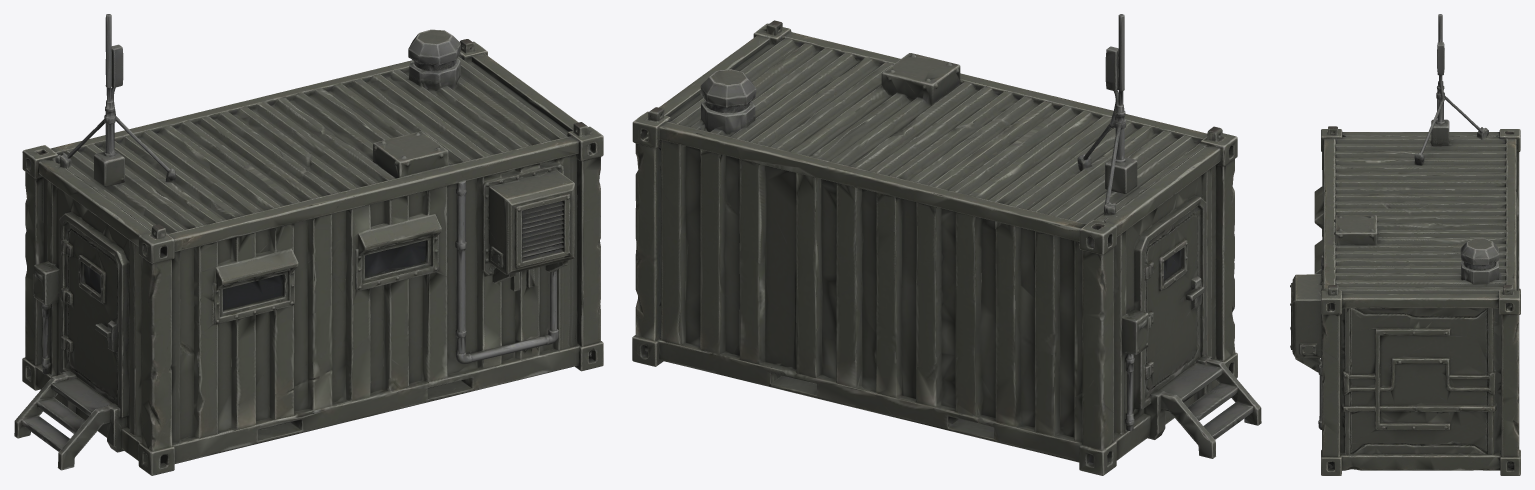
The model's file is mil_shelter.glb.
3 views of the same model, side by side, from view 1: azimuth 30°, elevation 25°; view 2: azimuth 150°, elevation 25°; view 3: azimuth 270°, elevation 25° (orthographic). The views are drawn at different scales.
Parts seen in each view (by area): view 1: mil_shelter; view 2: mil_shelter; view 3: mil_shelter.
Boxes of the visible parts, x1,y1,x2,y2 form: mil_shelter: [14, 14, 603, 475]; mil_shelter: [632, 14, 1261, 475]; mil_shelter: [1290, 14, 1520, 475].
Size of the model in its own units: 1.9 by 1.43 by 0.9719.
Materials: 1 (1 with a texture image).
